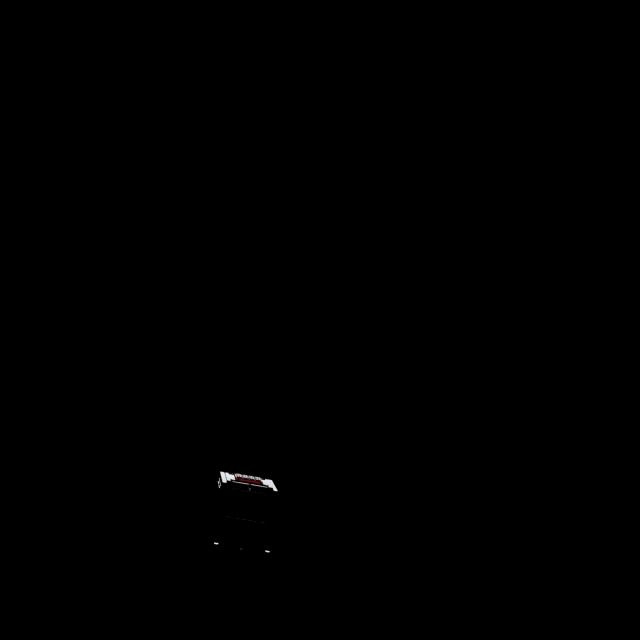medium_debris: (196, 462, 283, 570)
